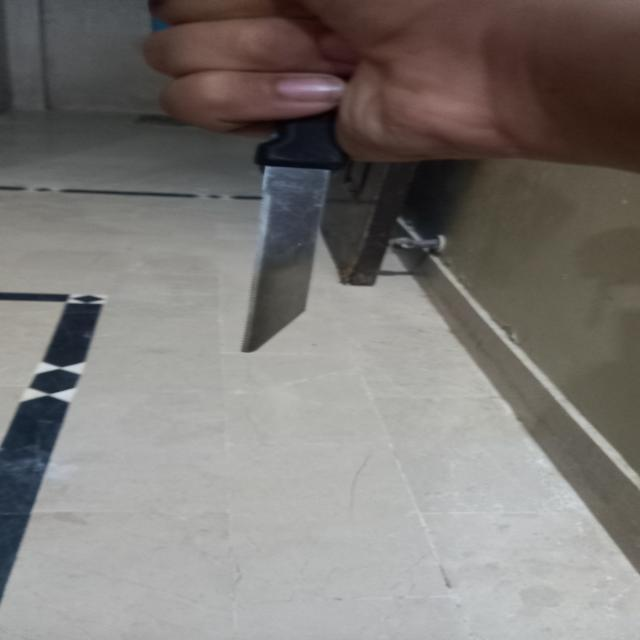Knife: (220, 4, 342, 362)
